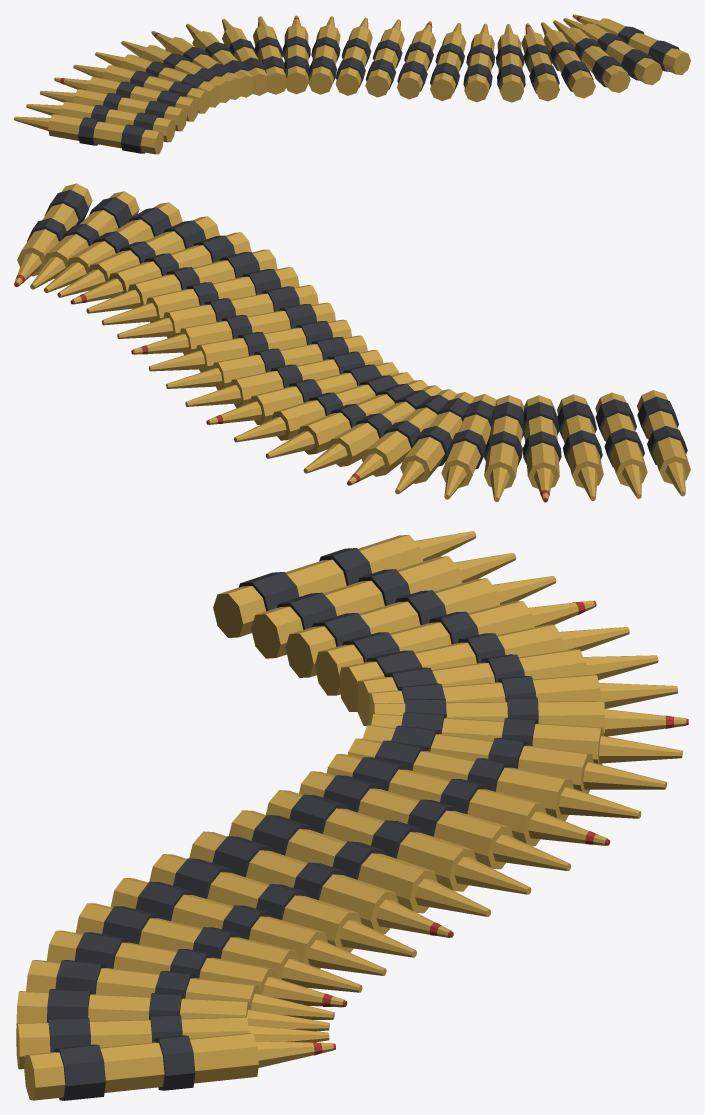
File: us_belt_556.glb
The picture shows the model from 3 angles, top to bottom: view 1: azimuth 30°, elevation 25°; view 2: azimuth 150°, elevation 25°; view 3: azimuth 270°, elevation 25°; orthographic projection. The views are drawn at different scales.
Visible parts, largest first — view 1: body; view 2: body; view 3: body.
Boxes of the visible parts, box(x1,y1,x2,y2) form: body: box(14, 14, 690, 154); body: box(14, 183, 690, 502); body: box(16, 531, 688, 1100).
Size of the model in its own units: 0.2566 by 0.011 by 0.1316.
